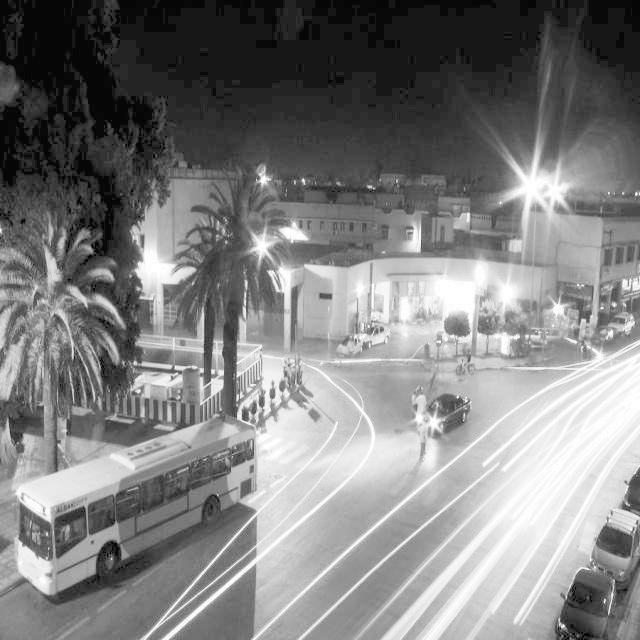Bus: (7, 396, 269, 598)
Car: (549, 559, 624, 640), (584, 499, 639, 576), (422, 388, 475, 438)
